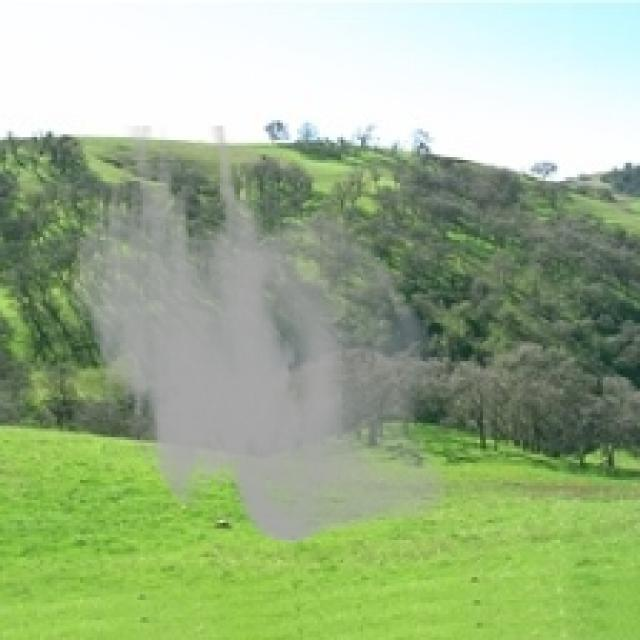Smoke: (66, 125, 448, 546)
